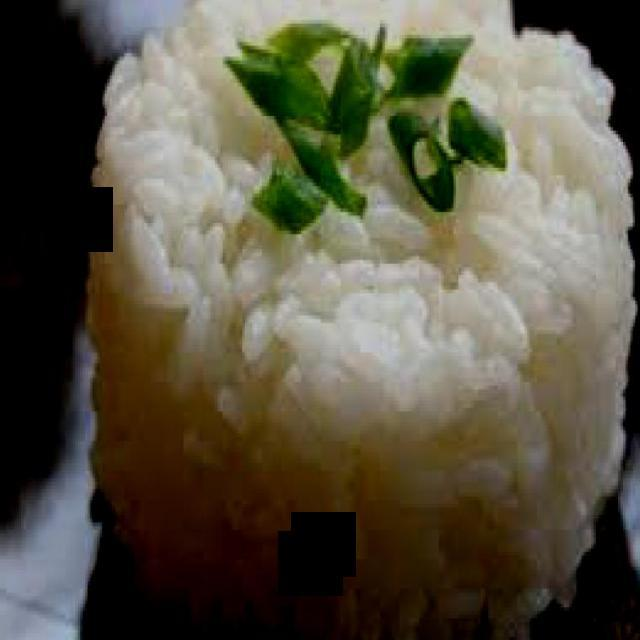rice: (86, 0, 636, 640)
